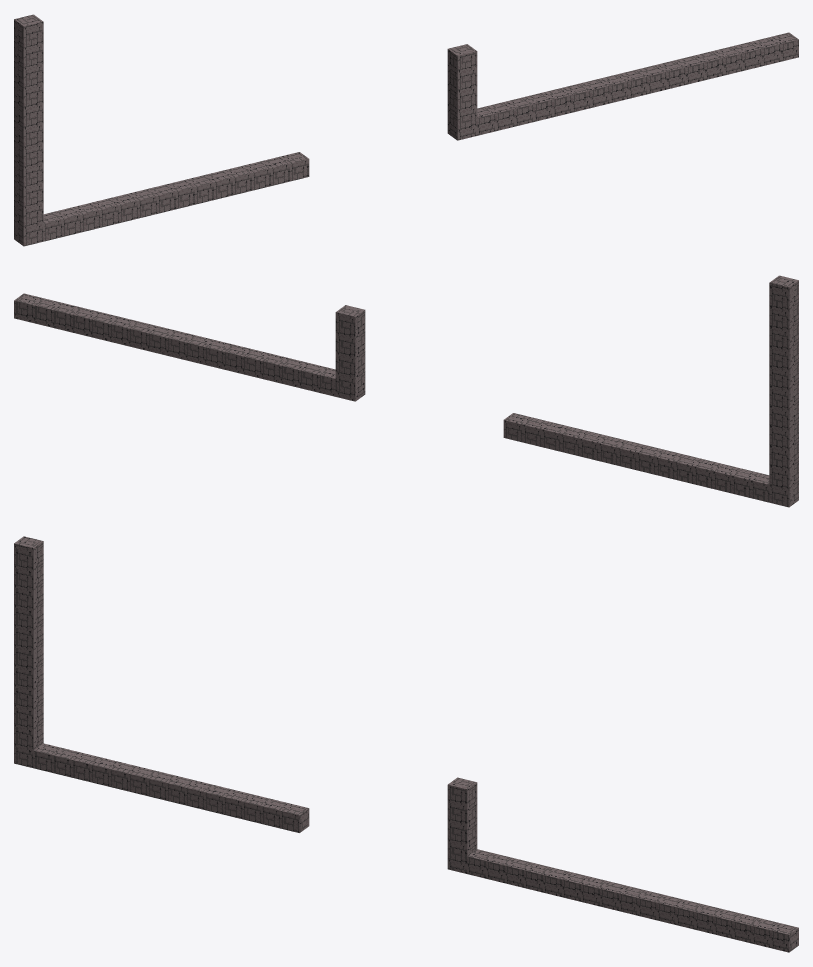
File: map_floor.gltf
3 renders of one model, top to bottom at view 1: azimuth 30°, elevation 25°; view 2: azimuth 150°, elevation 25°; view 3: azimuth 330°, elevation 25°, orthographic.
Parts seen in each view (by area): view 1: Cube; view 2: Cube; view 3: Cube.
Part boxes in pixels (left/top/right/bottom): Cube: left=14, top=14, right=798, bottom=246; Cube: left=14, top=275, right=798, bottom=507; Cube: left=14, top=536, right=798, bottom=952.
Size of the model in its own units: 91.08 by 24.71 by 2.
1 material, 1 textured.
